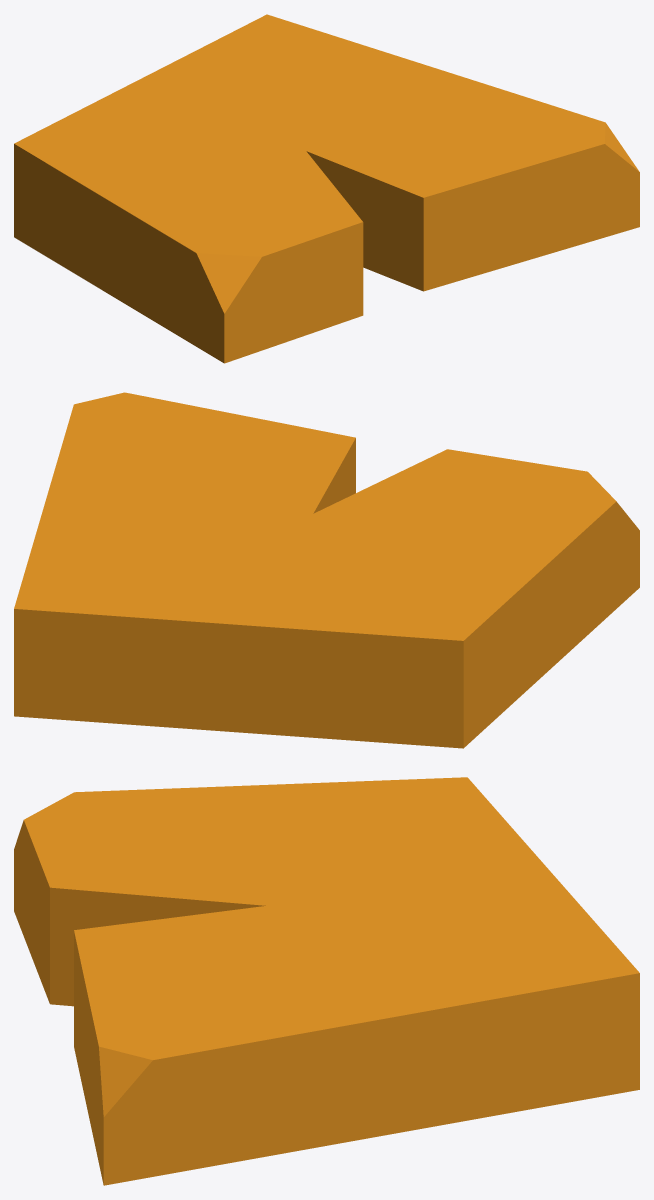
File: ea_pumpkin_piece_01a_pre_3_lev1.glb
3 renders of one model, top to bottom at view 1: azimuth 30°, elevation 25°; view 2: azimuth 150°, elevation 25°; view 3: azimuth 270°, elevation 25°, orthographic. The views are drawn at different scales.
Parts seen in each view (by area): view 1: ea_pumpkin_piece_01a_pre_3_lev1; view 2: ea_pumpkin_piece_01a_pre_3_lev1; view 3: ea_pumpkin_piece_01a_pre_3_lev1.
Boxes of the visible parts, bbox=[...] form: ea_pumpkin_piece_01a_pre_3_lev1: bbox=[14, 14, 639, 363]; ea_pumpkin_piece_01a_pre_3_lev1: bbox=[14, 392, 639, 748]; ea_pumpkin_piece_01a_pre_3_lev1: bbox=[14, 777, 639, 1185].
Size of the model in its own units: 0.3892 by 0.0726 by 0.3529.
1 material, 1 textured.
